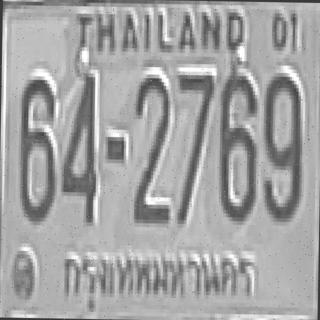N02: (132, 72, 170, 222)
N04: (58, 69, 98, 222)
N06: (216, 70, 255, 219), (17, 74, 54, 219)
N07: (174, 69, 213, 222), (174, 71, 213, 190)
N09: (260, 69, 301, 218)
P04: (54, 241, 262, 308)
